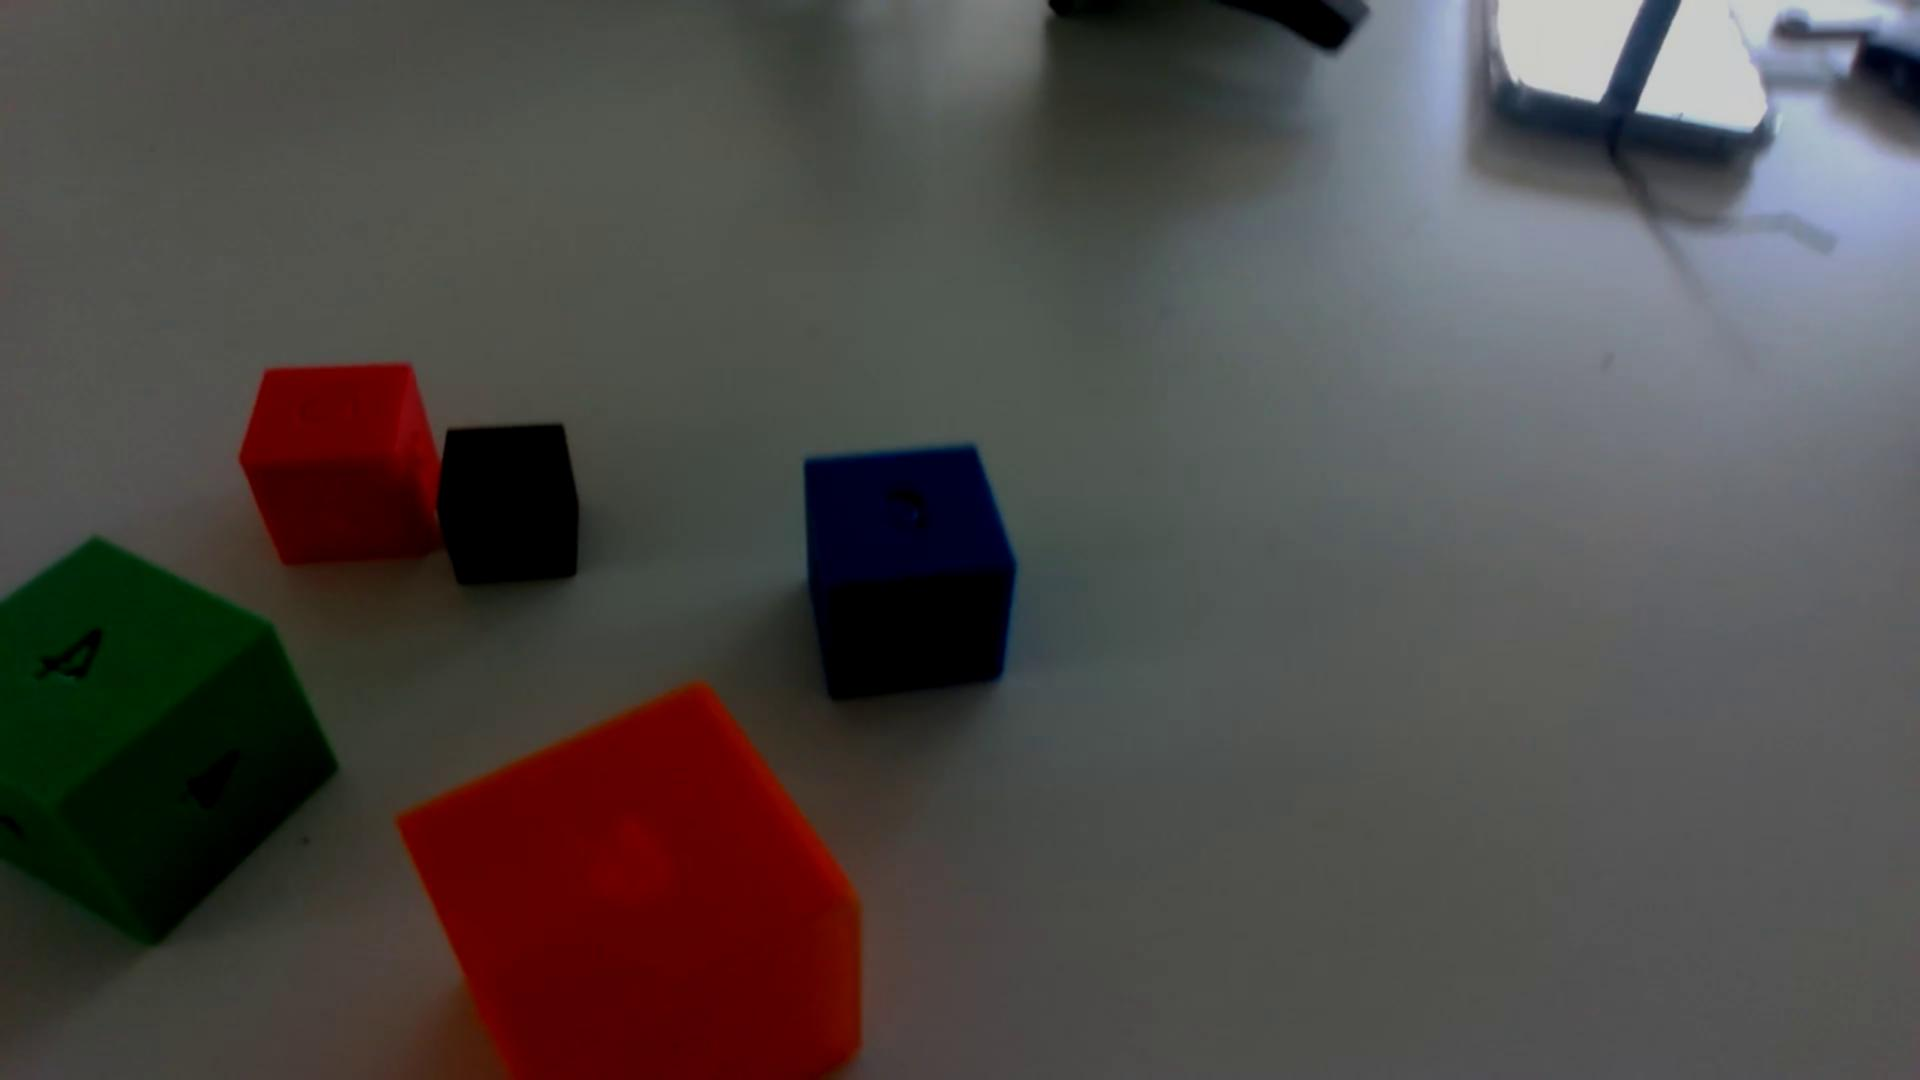black: (438, 425, 580, 585)
blue: (804, 446, 1015, 698)
green: (0, 541, 336, 943)
orange: (400, 686, 862, 1080)
red: (240, 364, 440, 566)
